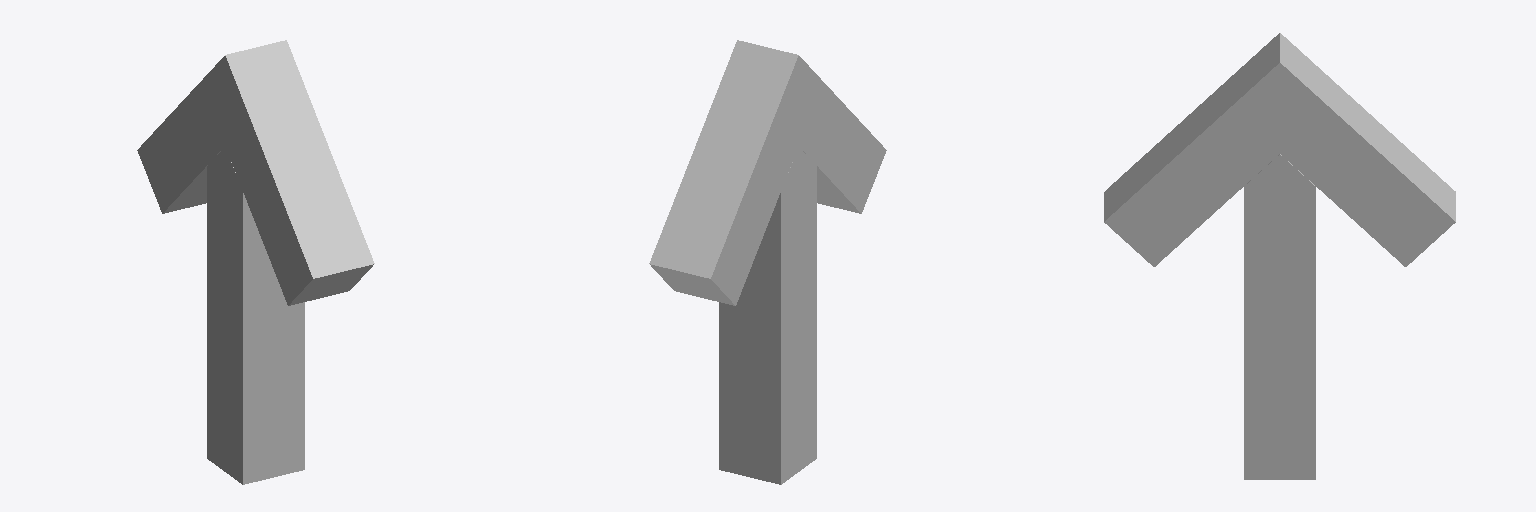
Rendered from upArrow.obj.
The picture shows the model from 3 angles: view 1: azimuth 30°, elevation 25°; view 2: azimuth 150°, elevation 25°; view 3: azimuth 270°, elevation 25°; orthographic projection.
Visible parts, largest first — view 1: Cube; view 2: Cube; view 3: Cube.
Boxes of the visible parts, <box> form: Cube: <box>137,40,374,484</box>; Cube: <box>649,40,886,484</box>; Cube: <box>1104,33,1455,479</box>.
Size of the model in its own units: 2 by 12.93 by 9.9.